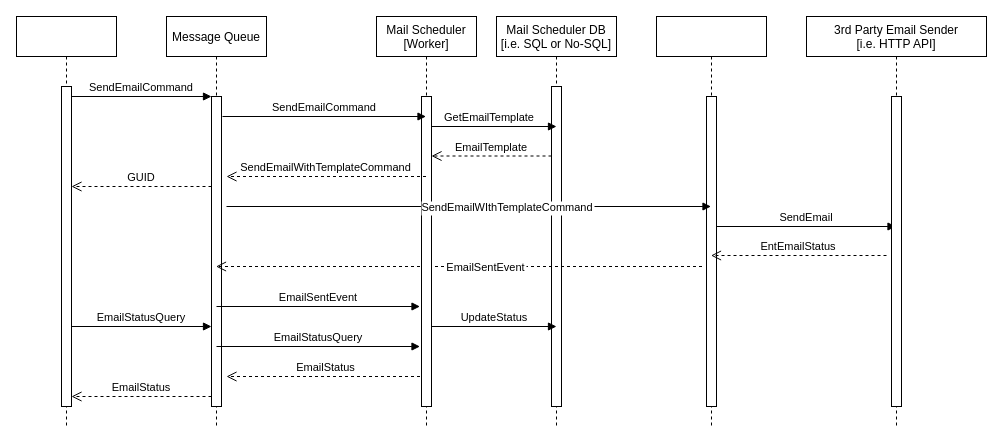
This 1003x443 diagram has some shape labels left out. Each missing label, with the box of its shape:
Email Service [Worker]: (656, 16, 766, 426)
Service X [Worker]: (16, 16, 116, 426)
